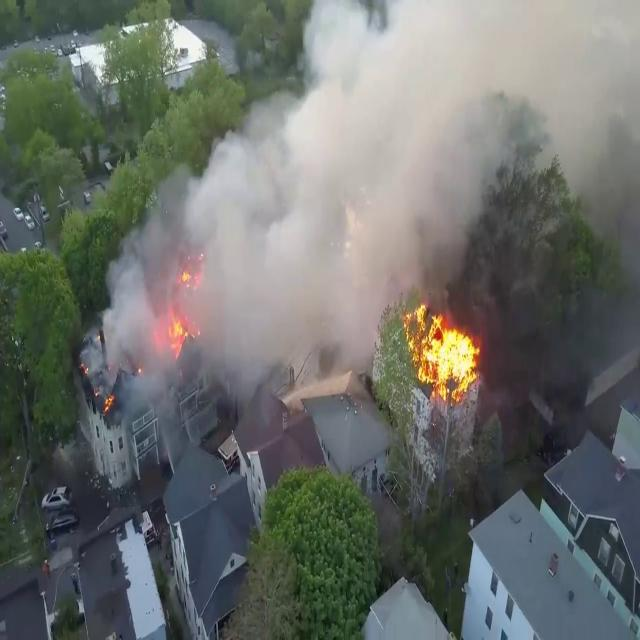Fire: (398, 288, 486, 404)
Smoke: (102, 0, 562, 412)
